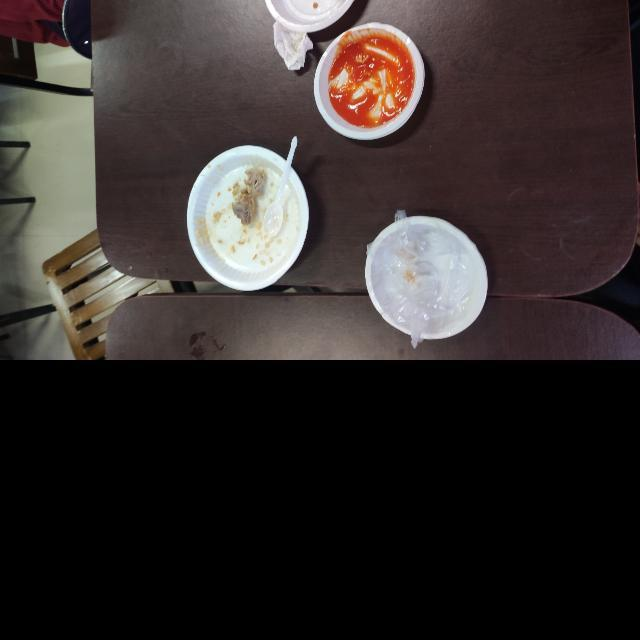kitchen paper: (272, 16, 312, 74)
